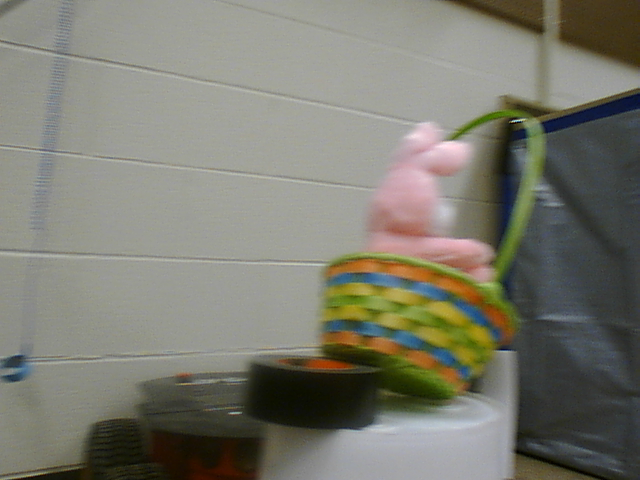bunny: (314, 100, 548, 410)
